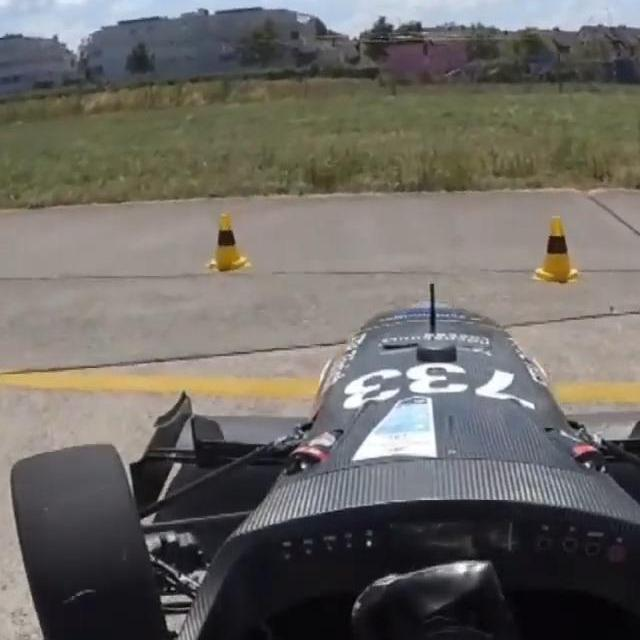Safety Cone: (529, 221, 585, 290), (204, 206, 253, 277)
vehicle: (0, 276, 640, 640)
